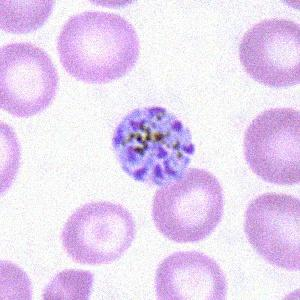Infected: (111, 105, 194, 185)
Uninfected: (58, 11, 140, 83), (150, 170, 223, 243), (61, 201, 134, 266), (243, 106, 300, 187), (0, 41, 58, 118), (243, 193, 300, 270), (239, 16, 300, 87), (156, 251, 227, 300)
